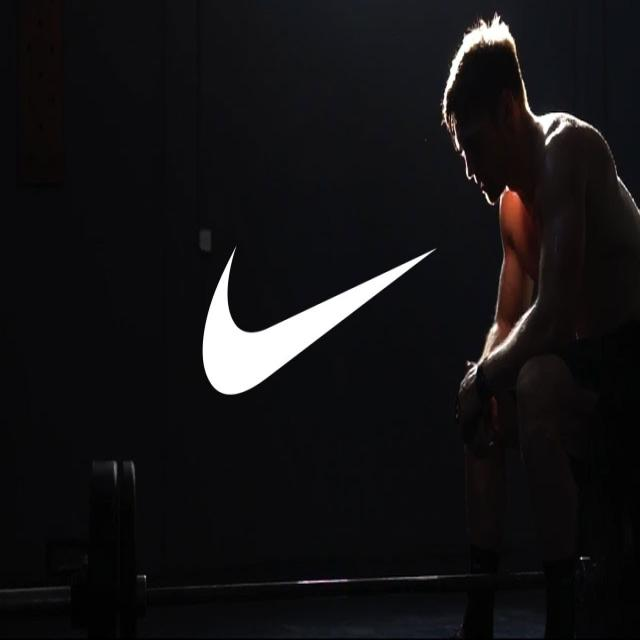nike: (183, 237, 453, 426)
